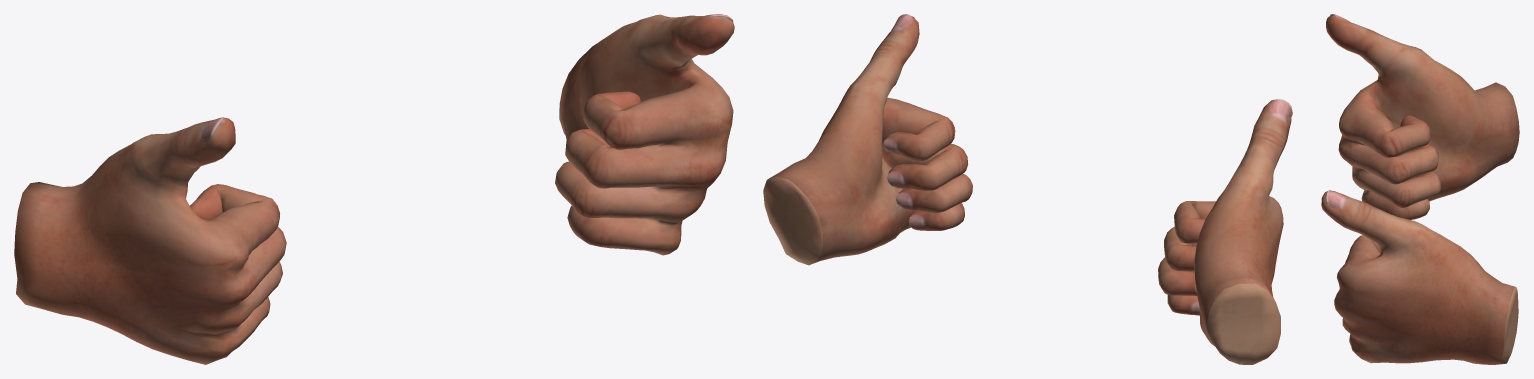
File: intro_setup_assi_thumbsup.fbx
3 views of the same model, side by side, from view 1: azimuth 30°, elevation 25°; view 2: azimuth 150°, elevation 25°; view 3: azimuth 270°, elevation 25° (orthographic). The views are drawn at different scales.
Parts seen in each view (by area): view 1: Body_hand_left, Body_hand_right; view 2: Body_hand_right, Body_hand_left; view 3: Body_hand_left, Body_hand_right.
Part boxes in pixels (bbox=[...]): Body_hand_left: bbox=[14, 117, 286, 364]; Body_hand_right: bbox=[555, 14, 734, 255]; Body_hand_right: bbox=[763, 14, 972, 265]; Body_hand_left: bbox=[1158, 99, 1292, 364]; Body_hand_left: bbox=[1326, 14, 1519, 219]; Body_hand_right: bbox=[1321, 190, 1518, 364].
Size of the model in its own units: 40.85 by 16.11 by 15.17.
